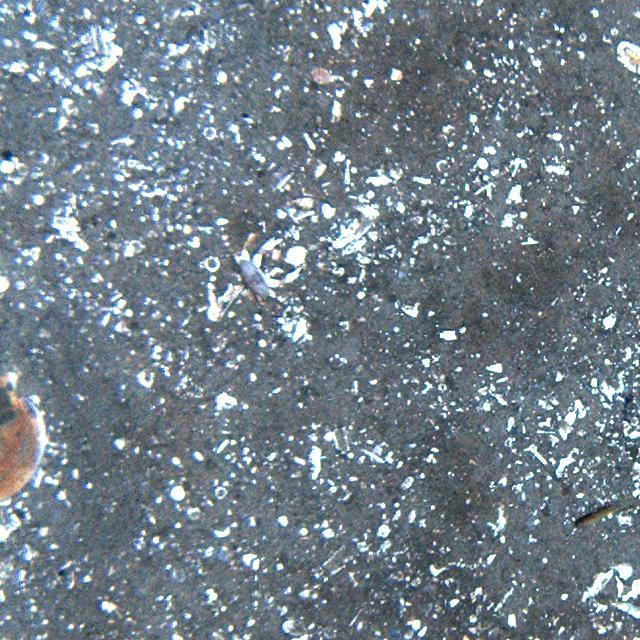crab: (227, 236, 301, 306)
